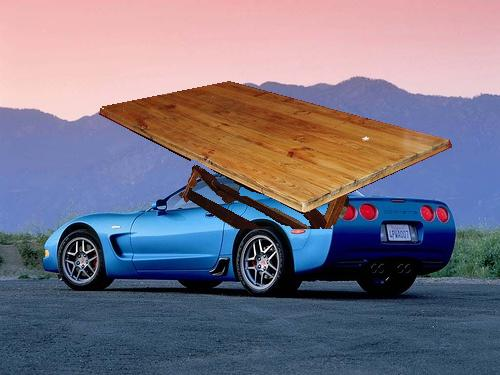tampered: (100, 82, 452, 229)
